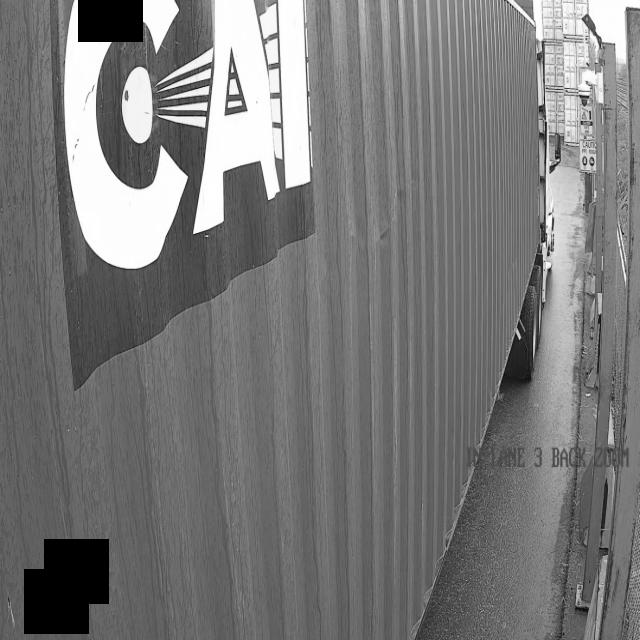container_company_logo: (38, 0, 396, 307)
truck_with_container: (0, 0, 551, 640)
